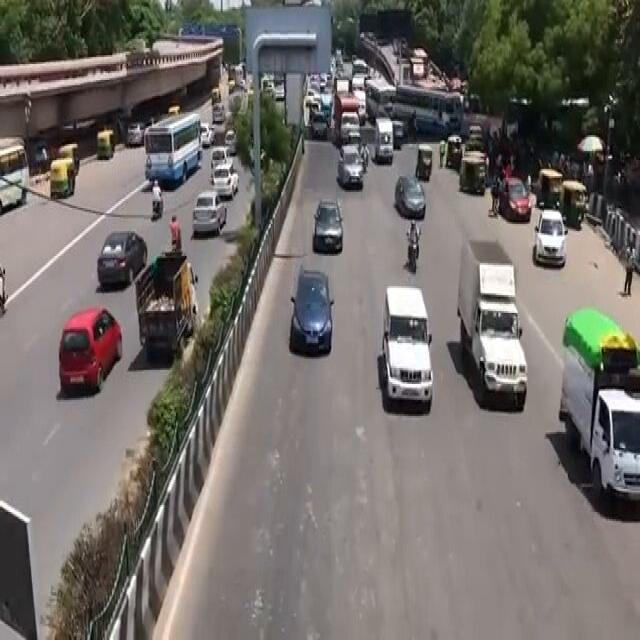three_wheeler: (409, 134, 437, 190)
